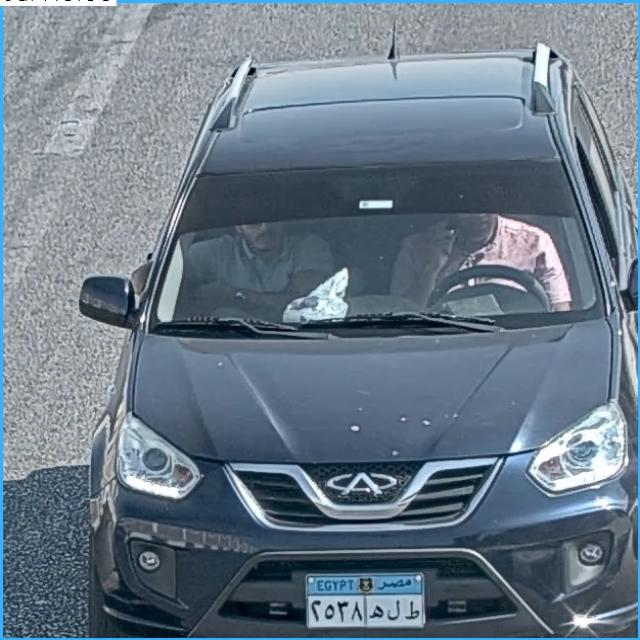windshield: (151, 167, 594, 327)
